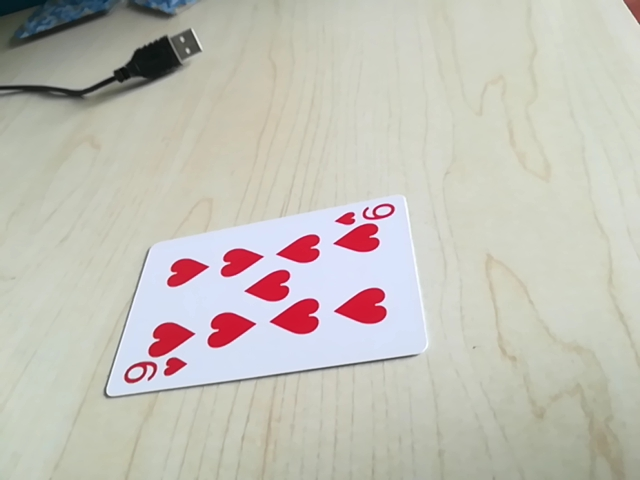hx 9: (119, 356, 190, 390), (334, 198, 401, 227)
